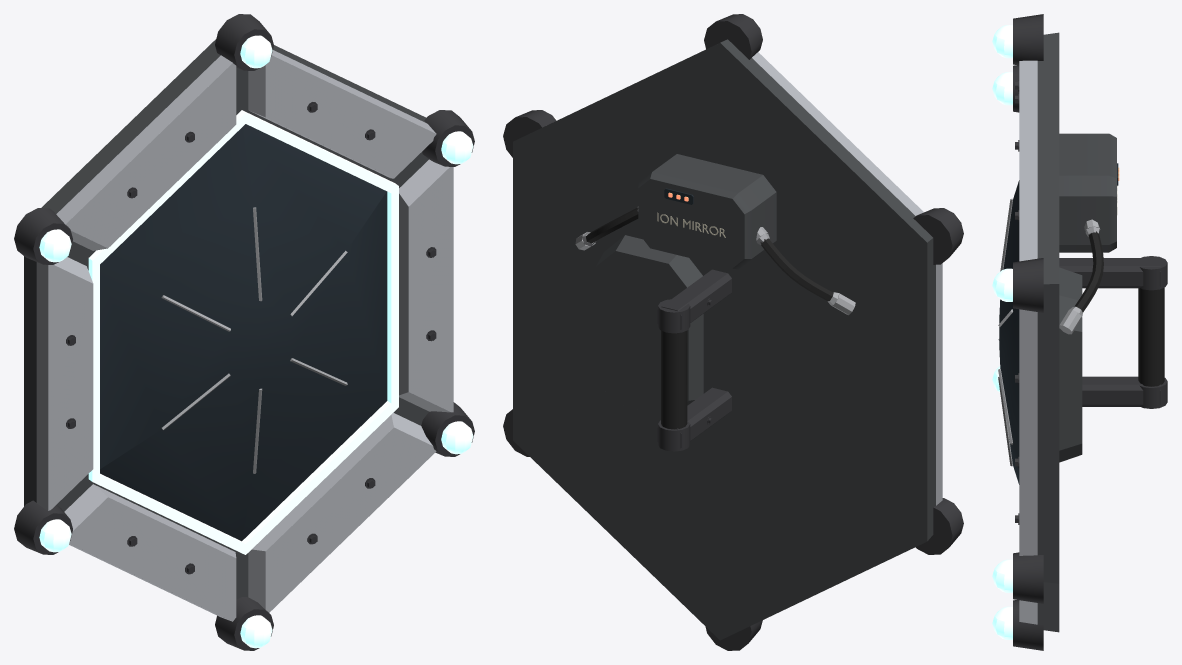
File: ionmirror.glb
3 views of the same model, side by side, from view 1: azimuth 30°, elevation 25°; view 2: azimuth 150°, elevation 25°; view 3: azimuth 270°, elevation 25° (orthographic).
Parts seen in each view (by area): view 1: Body; view 2: Body; view 3: Body.
Part boxes in pixels (x1,y1,x2,y2): Body: (14, 14, 474, 650); Body: (503, 14, 963, 650); Body: (992, 14, 1167, 650).
Size of the model in its own units: 0.6768 by 0.9062 by 0.228.
